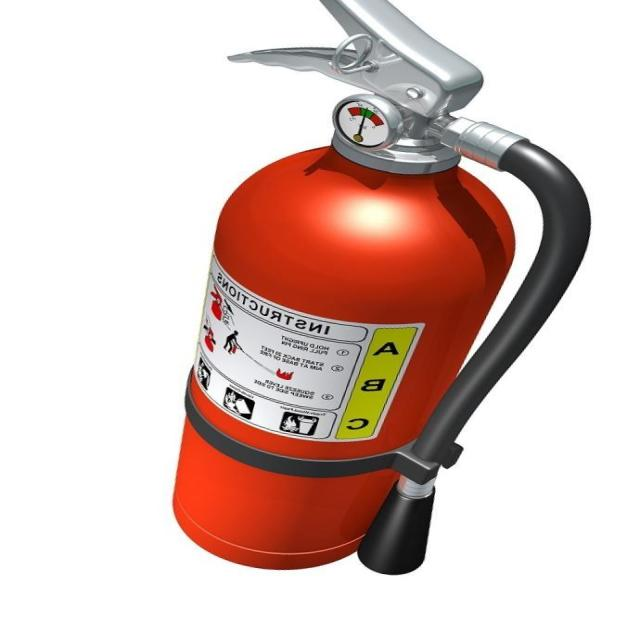fire_extinguisher: (162, 0, 598, 579)
